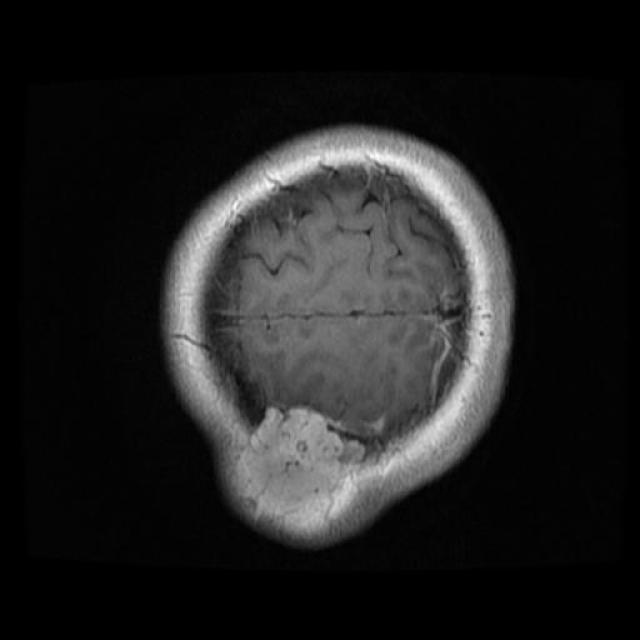Meningioma: (222, 407, 365, 535)
